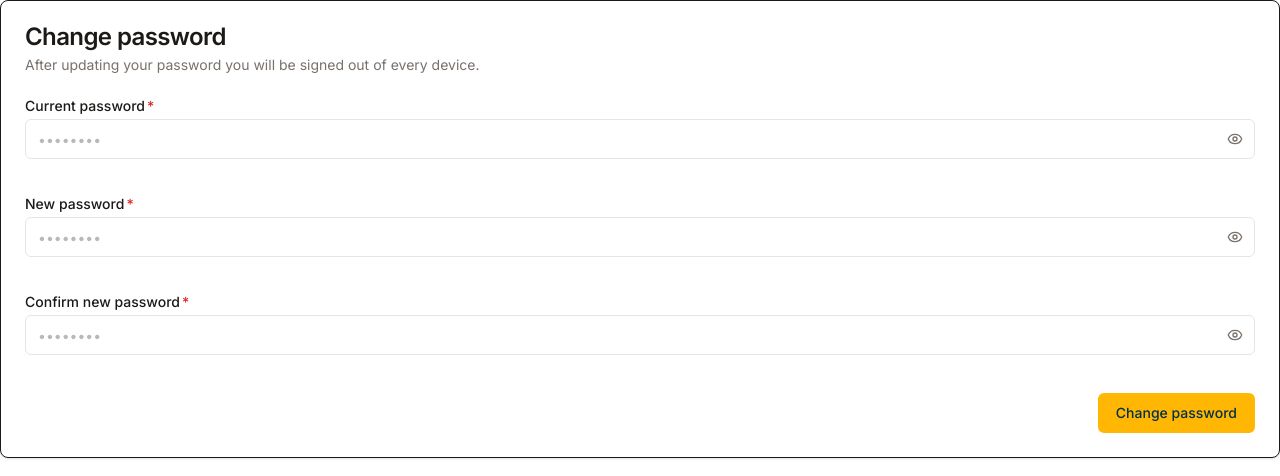
Test: ChangePasswordForm › shows an inline error when confirm does not match new password
The image size is (1280, 476).
In the password field labelled "Current password": (640, 139) x1=25 y1=119 x2=1255 y2=159, type "oldpassword1"
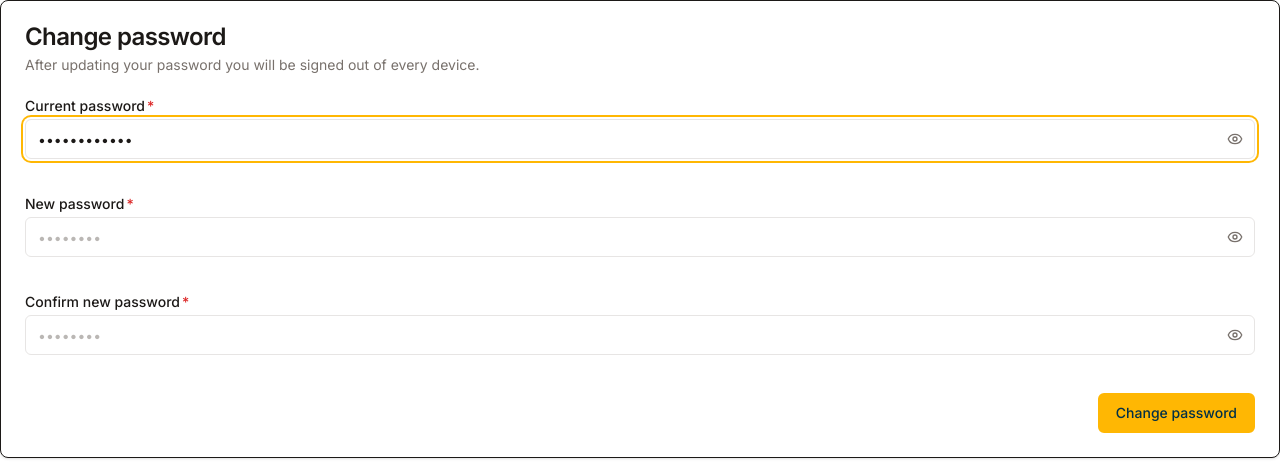
In the password field labelled "New password": (640, 237) x1=25 y1=217 x2=1255 y2=257, type "newpassword123"
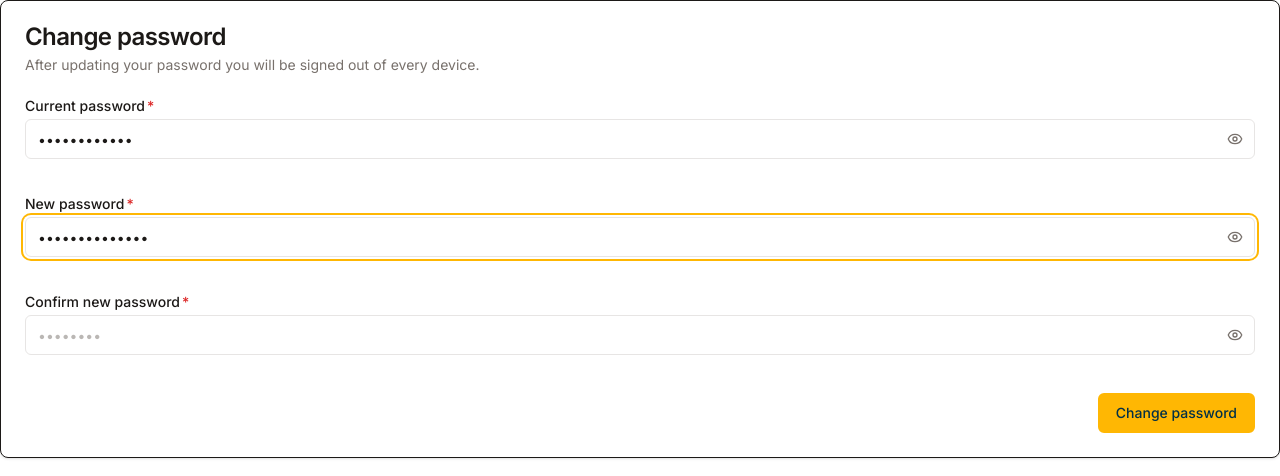
In the password field labelled "Confirm new password": (640, 335) x1=25 y1=315 x2=1255 y2=355, type "different-one"
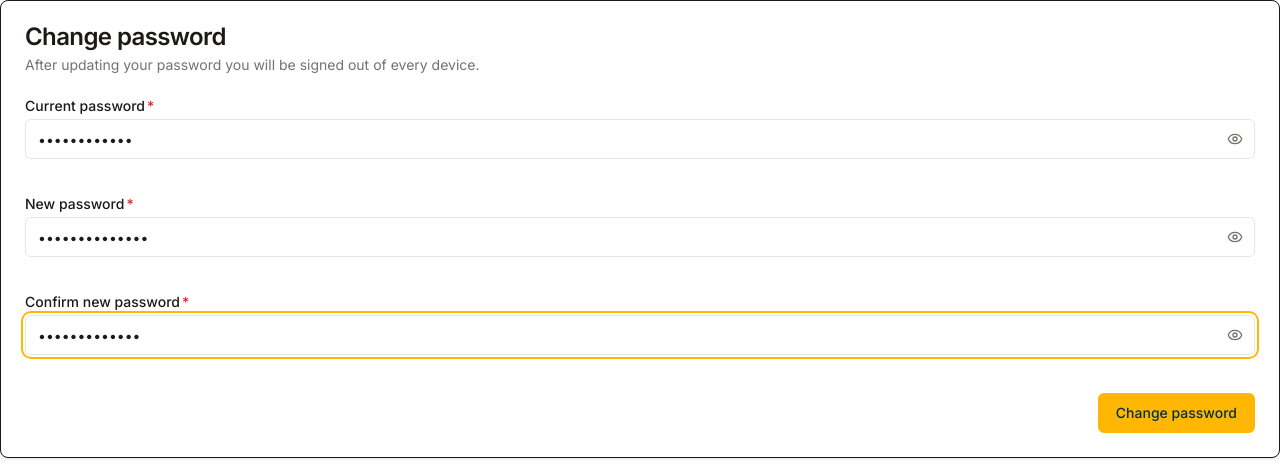
Click the button "Change password": (1176, 413) x1=1098 y1=393 x2=1255 y2=433
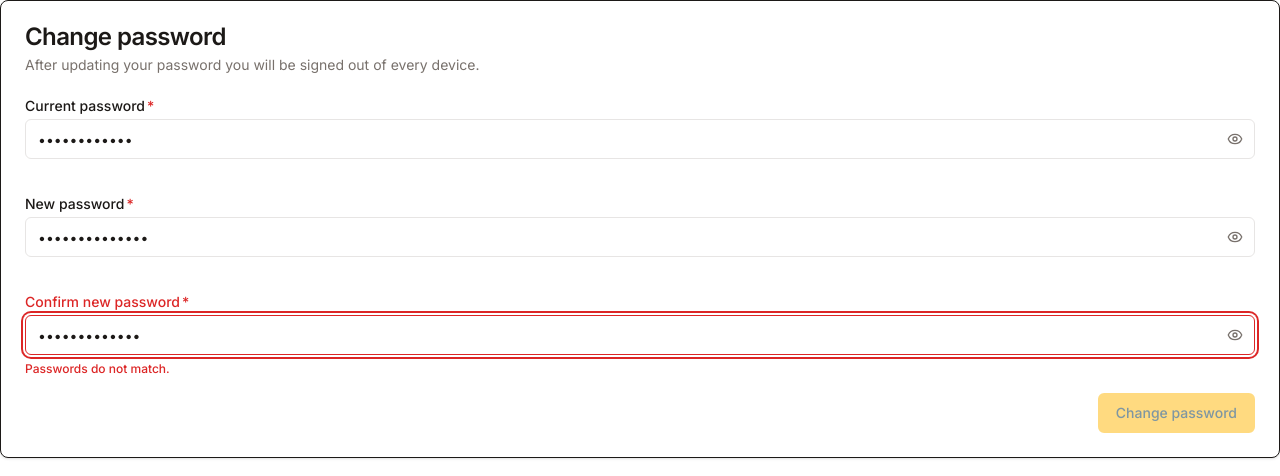
Expected: the text "Passwords do not match." is shown, x1=25 y1=361 x2=170 y2=376
Expected: the button "Change password" is disabled, x1=1098 y1=393 x2=1255 y2=433
